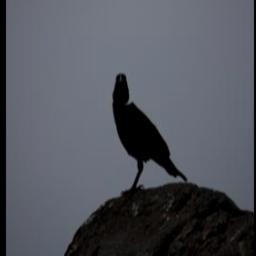Crow: (111, 71, 187, 193)
